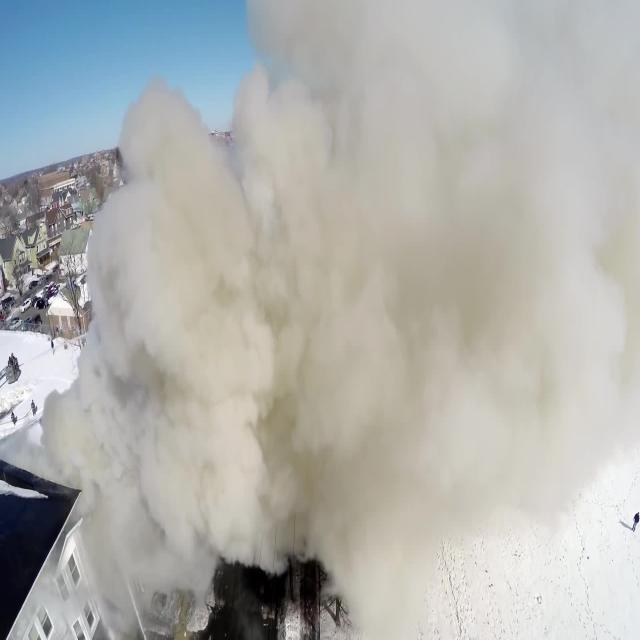Smoke: (241, 8, 459, 566), (446, 12, 637, 520), (81, 84, 265, 591)
